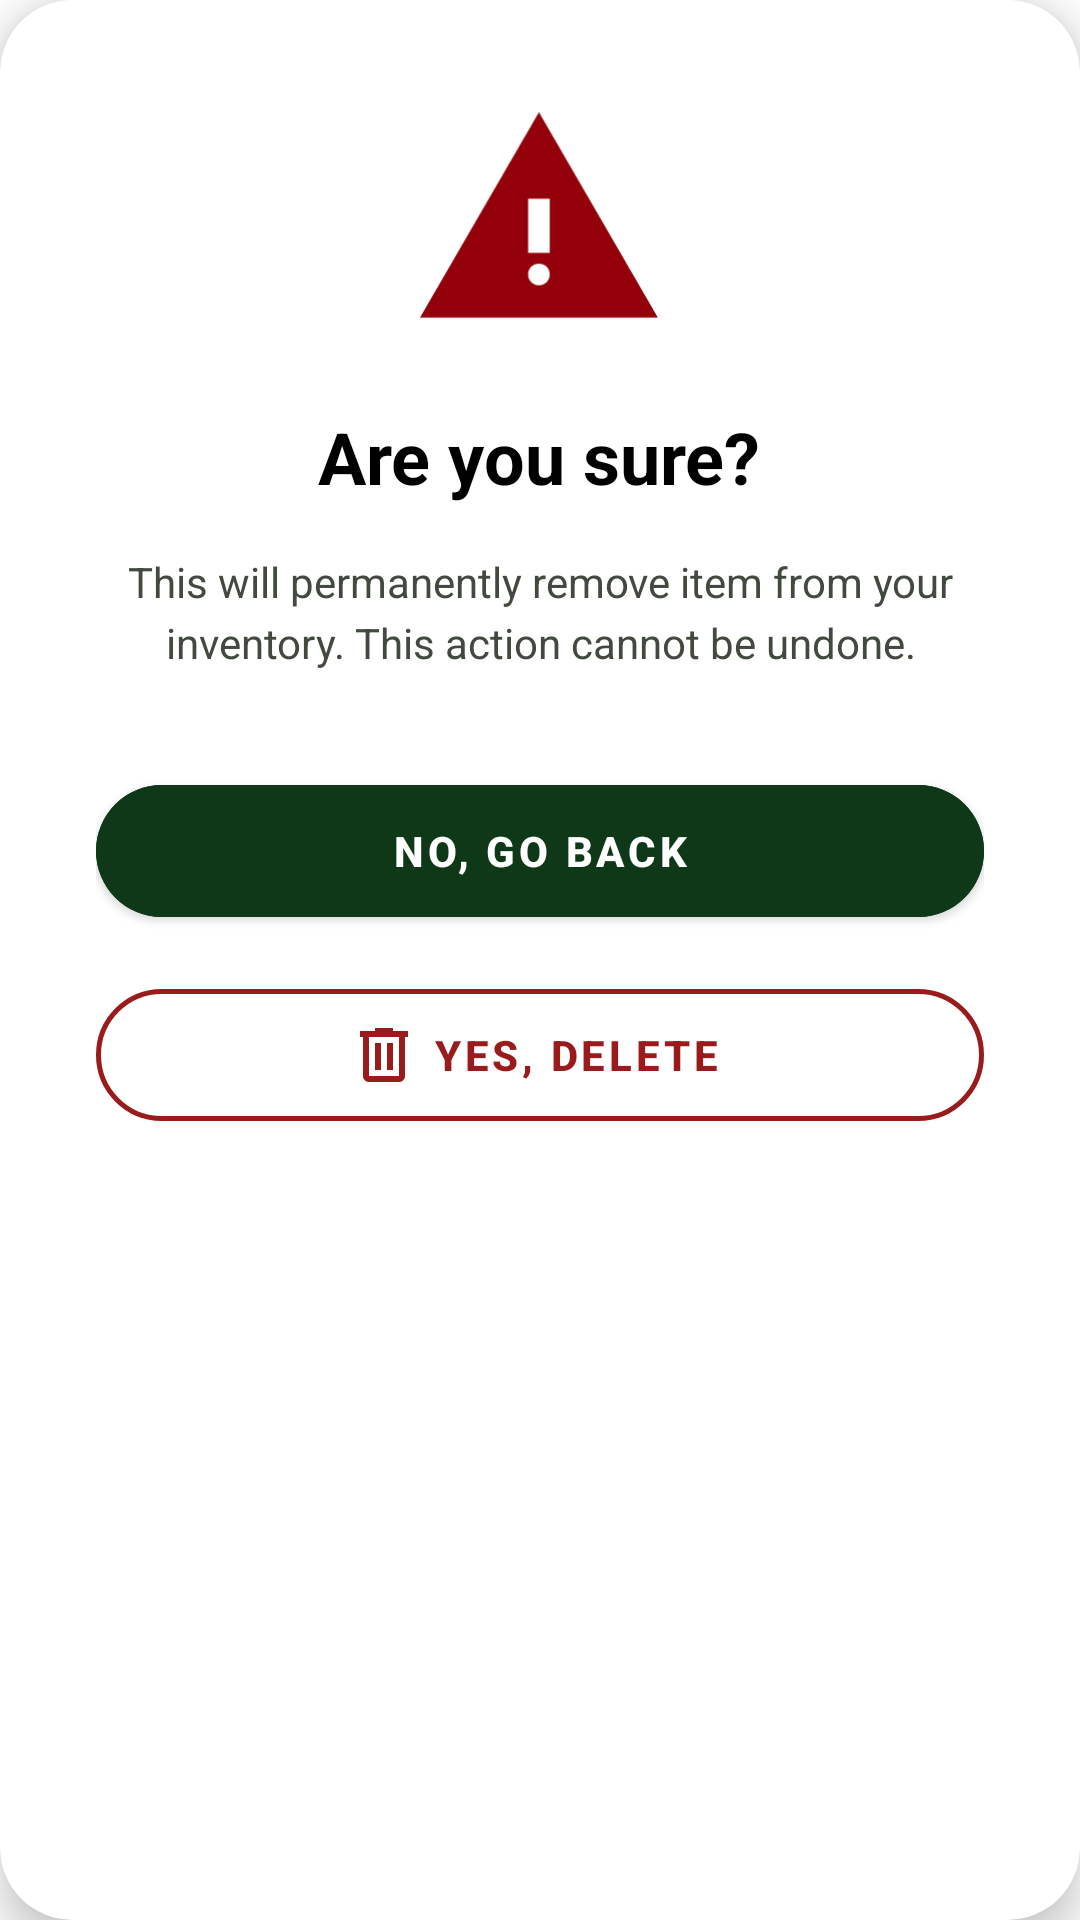

Icons on this 1080*1920 Android screen, each with its box as box=[x1, y1, x2, y2]:
warning modal: box=[420, 112, 658, 318]
